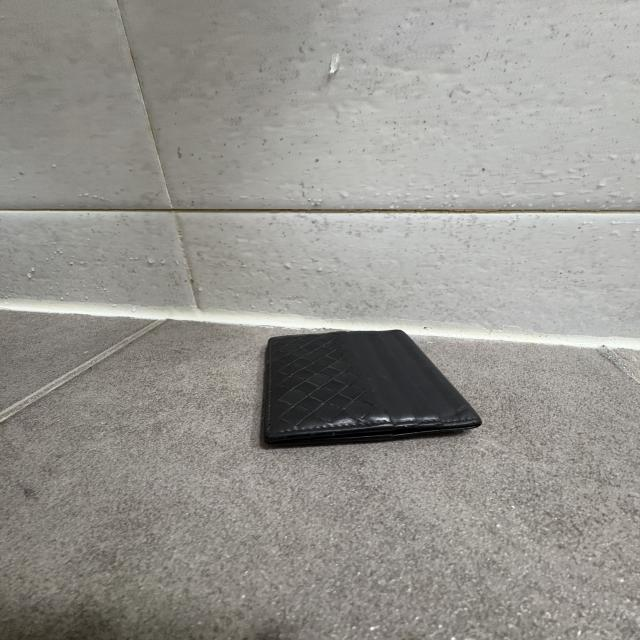wallet: (260, 329, 484, 449)
